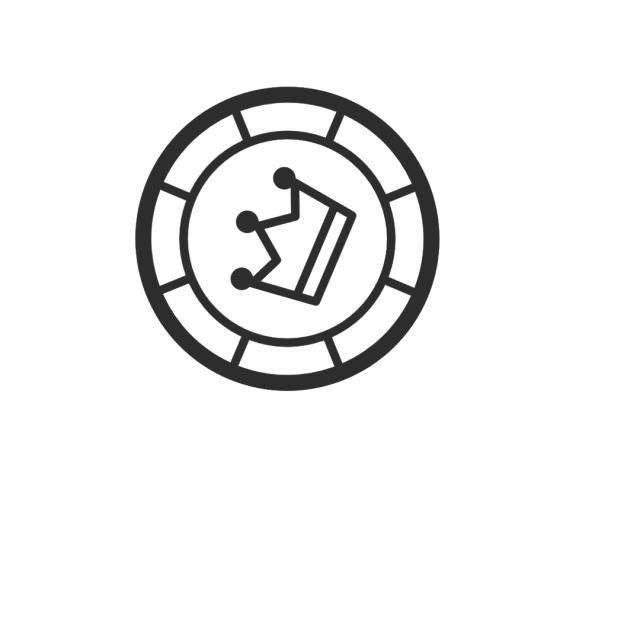coin: (129, 82, 448, 401)
